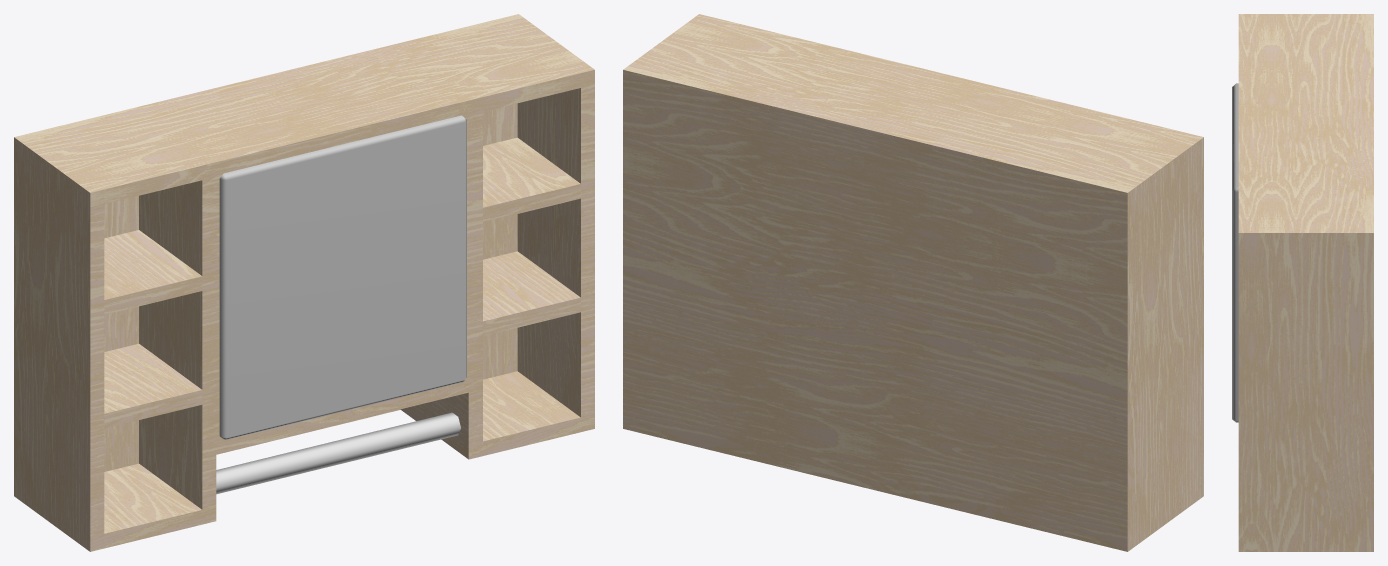
File: bathroom_005.fbx
3 views of the same model, side by side, from view 1: azimuth 30°, elevation 25°; view 2: azimuth 150°, elevation 25°; view 3: azimuth 270°, elevation 25° (orthographic). The views are drawn at different scales.
Visible parts, largest first — view 1: bathroom_005; view 2: bathroom_005; view 3: bathroom_005.
Boxes of the visible parts, x1,y1,x2,y2 form: bathroom_005: (14,14,594,551); bathroom_005: (623,14,1203,551); bathroom_005: (1232,14,1373,551).
Bounding box in the file's own units: 179 × 48.91 × 121.
